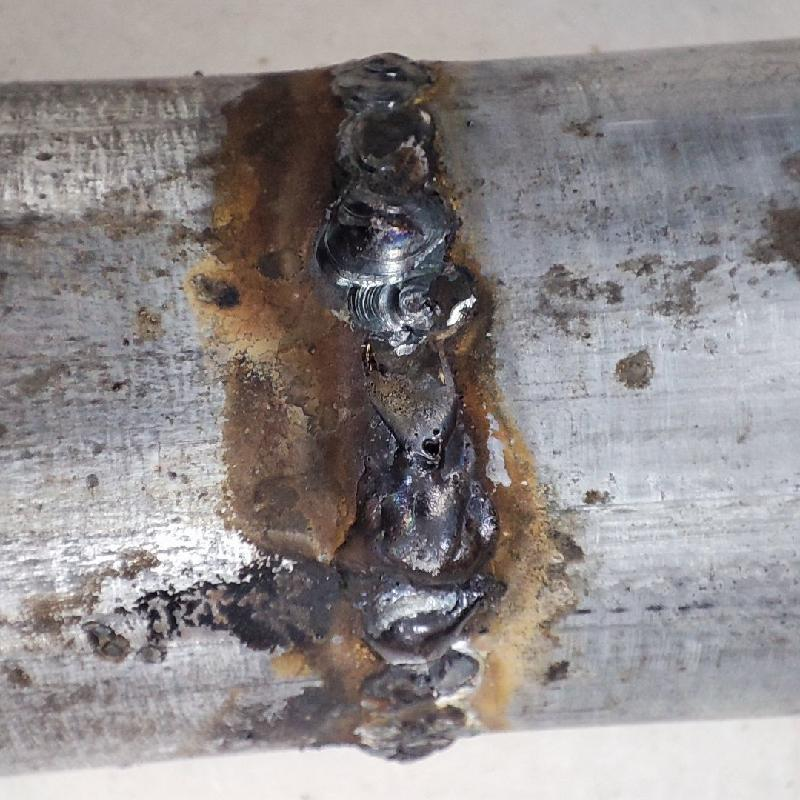Not_fully_soldered: (342, 278, 487, 467), (360, 659, 477, 745)
Surface_pores: (408, 422, 452, 464)
Weld: (348, 470, 498, 655)
wrong_size: (323, 52, 440, 267)
